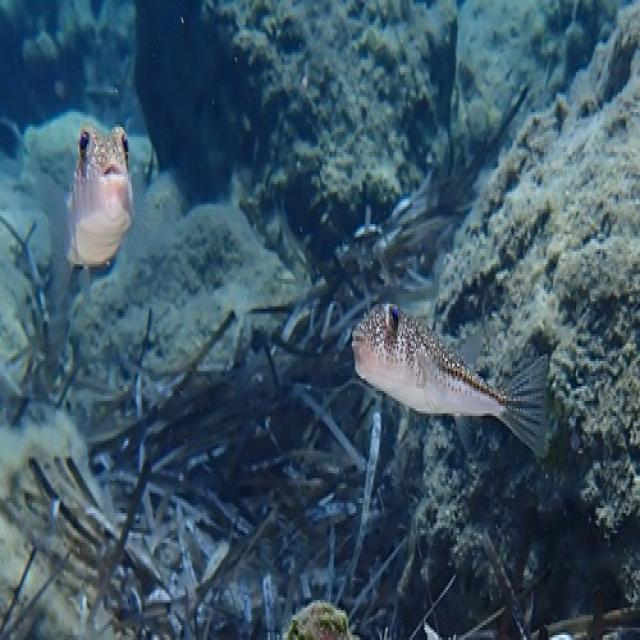Balik: (352, 304, 547, 455), (67, 125, 133, 266)
